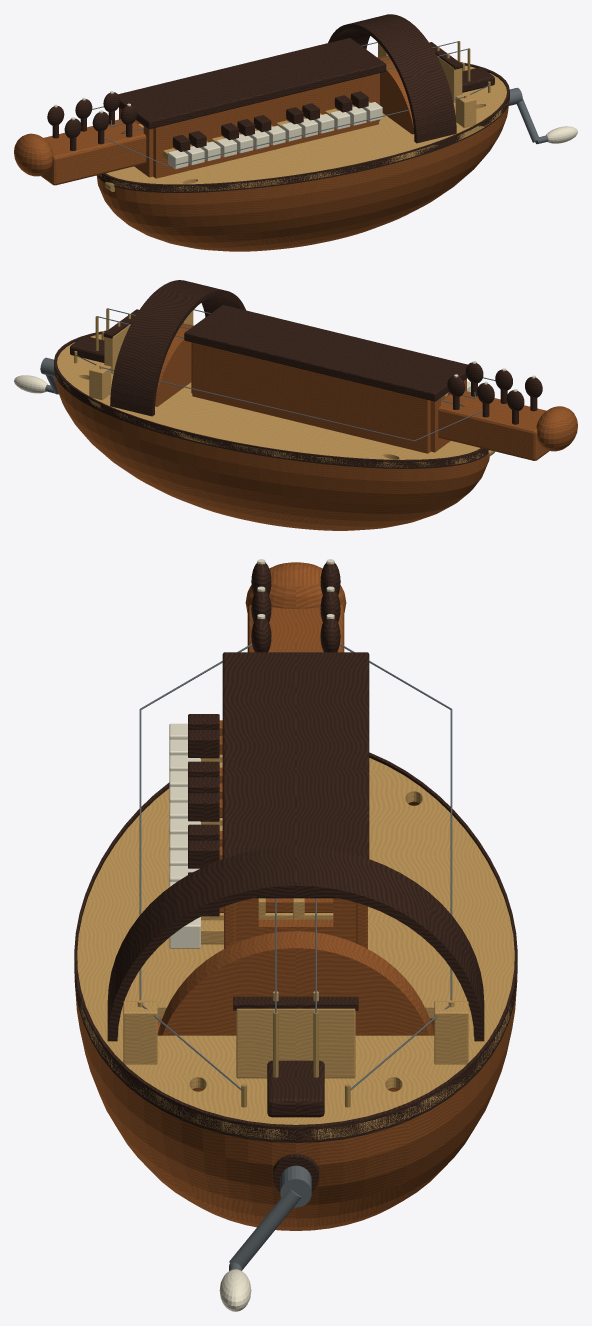
File: hurdy_gurdy_LOD0.glb
3 views of the same model, one above another, from view 1: azimuth 30°, elevation 25°; view 2: azimuth 150°, elevation 25°; view 3: azimuth 270°, elevation 25° (orthographic). The views are drawn at different scales.
Visible parts, largest first — view 1: Hollow_bowl_shell, Keybox_closed_lid, Soundboard, Arched_wheel_cover, Keybox_side_rail, Short_pegbox_plate, Dark_perimeter_binding, Friction_wheel, Rounded_scroll_finial, Drone_bridge, Tailpiece, Melody_bridge (+5 smaller); view 2: Hollow_bowl_shell, Keybox_side_rail.001, Keybox_closed_lid, Soundboard, Arched_wheel_cover, Short_pegbox_plate, Dark_perimeter_binding, Friction_wheel, Rounded_scroll_finial, Drone_bridge.001, Tailpiece, Keybox_end_wall (+3 smaller); view 3: Soundboard, Keybox_closed_lid, Hollow_bowl_shell, Arched_wheel_cover, Friction_wheel, Dark_perimeter_binding, Melody_bridge, Tailpiece, Keybox_end_wall.001, Short_pegbox_plate, Rounded_scroll_finial, Drone_bridge (+6 smaller).
Boxes of the visible parts, x1=… form: Hollow_bowl_shell: x1=96, y1=105, x2=508, y2=251; Keybox_closed_lid: x1=118, y1=38, x2=386, y2=129; Soundboard: x1=98, y1=65, x2=509, y2=191; Arched_wheel_cover: x1=328, y1=14, x2=456, y2=143; Keybox_side_rail: x1=153, y1=73, x2=378, y2=178; Short_pegbox_plate: x1=41, y1=119, x2=146, y2=185; Dark_perimeter_binding: x1=97, y1=62, x2=509, y2=192; Friction_wheel: x1=377, y1=56, x2=414, y2=134; Rounded_scroll_finial: x1=14, y1=133, x2=53, y2=176; Drone_bridge: x1=455, y1=93, x2=476, y2=127; Tailpiece: x1=462, y1=67, x2=494, y2=92; Melody_bridge: x1=437, y1=57, x2=462, y2=102; Hollow_bowl_shell: x1=55, y1=376, x2=489, y2=530; Keybox_side_rail.001: x1=192, y1=342, x2=430, y2=453; Keybox_closed_lid: x1=184, y1=305, x2=467, y2=401; Soundboard: x1=56, y1=334, x2=483, y2=467; Arched_wheel_cover: x1=110, y1=280, x2=245, y2=416; Short_pegbox_plate: x1=438, y1=391, x2=549, y2=460; Dark_perimeter_binding: x1=54, y1=330, x2=488, y2=468; Friction_wheel: x1=155, y1=324, x2=193, y2=406; Rounded_scroll_finial: x1=536, y1=406, x2=577, y2=451; Drone_bridge.001: x1=89, y1=363, x2=111, y2=400; Tailpiece: x1=70, y1=336, x2=104, y2=362; Keybox_end_wall: x1=430, y1=379, x2=466, y2=452; Soundboard: x1=74, y1=758, x2=517, y2=1139; Keybox_closed_lid: x1=222, y1=652, x2=369, y2=898; Hollow_bowl_shell: x1=75, y1=801, x2=516, y2=1230; Arched_wheel_cover: x1=107, y1=847, x2=484, y2=1041; Friction_wheel: x1=157, y1=931, x2=434, y2=1091; Dark_perimeter_binding: x1=74, y1=752, x2=517, y2=1142; Melody_bridge: x1=236, y1=1008, x2=355, y2=1078; Tailpiece: x1=267, y1=1060, x2=324, y2=1117; Keybox_end_wall.001: x1=235, y1=898, x2=356, y2=943; Short_pegbox_plate: x1=247, y1=604, x2=344, y2=652; Rounded_scroll_finial: x1=245, y1=562, x2=346, y2=612; Drone_bridge: x1=123, y1=1001, x2=157, y2=1064.
Size of the model in its own units: 0.873 by 0.2872 by 0.3081.
Materials: 6 (3 with a texture image).
